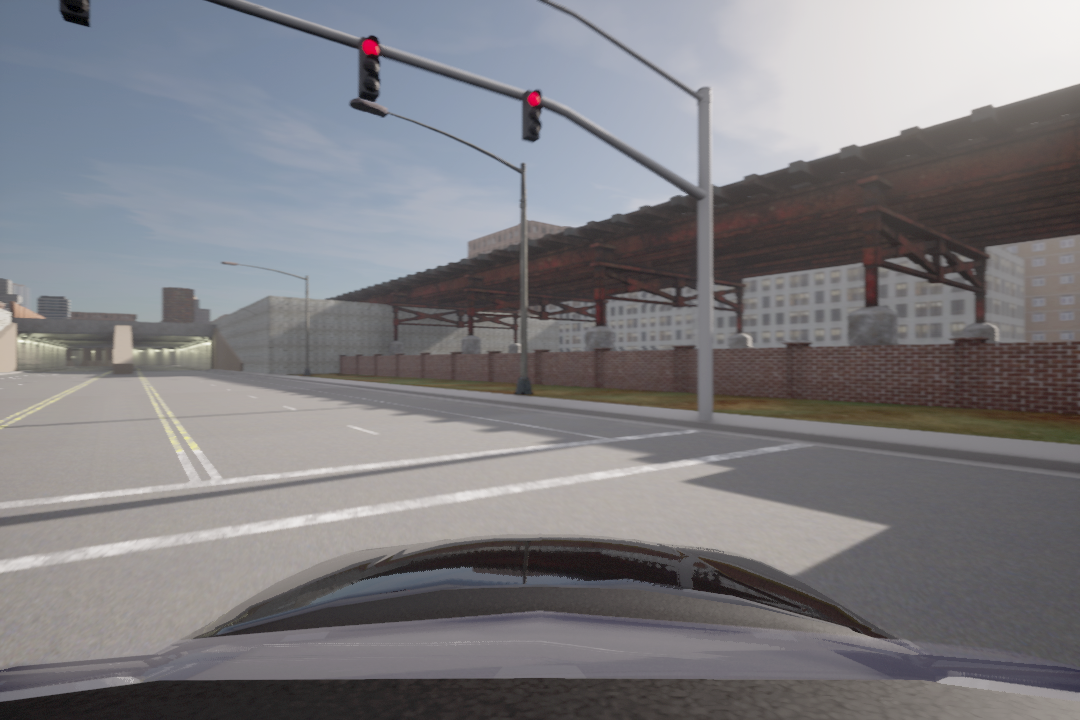TrafficLight: (357, 31, 384, 96), (521, 87, 547, 146)
